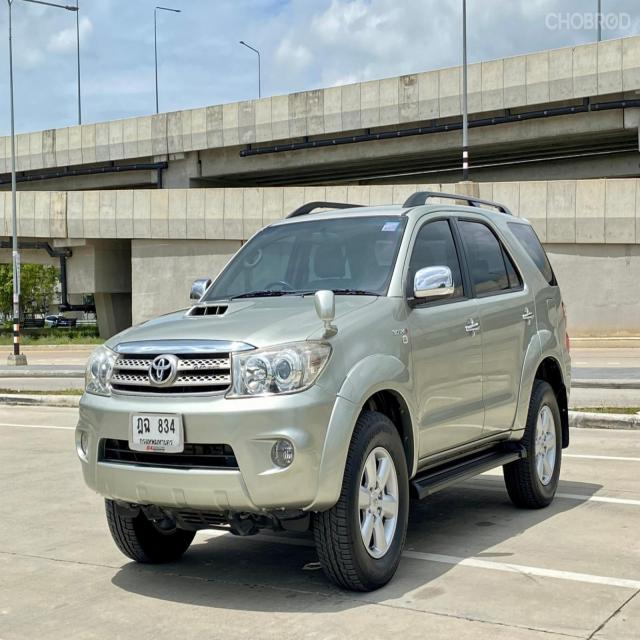license_plate: (121, 408, 190, 462)
